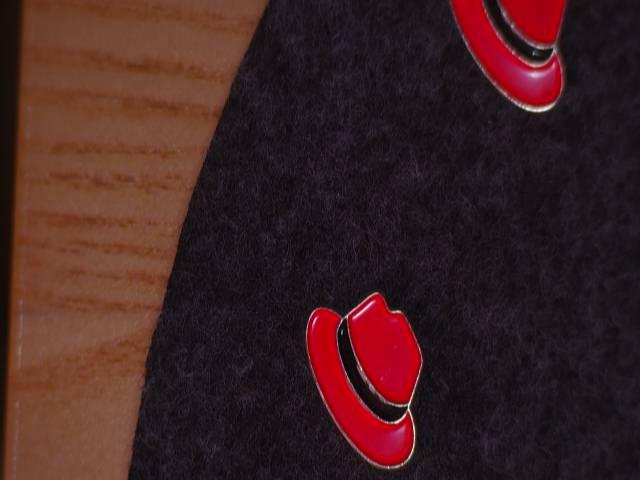Red-Hat: (288, 273, 443, 480), (409, 0, 579, 141)
